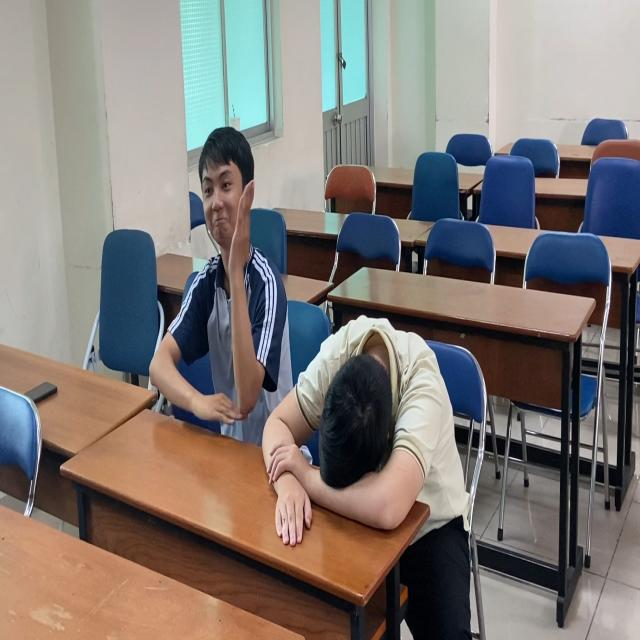raise_hand: (162, 116, 265, 460)
sleep: (257, 329, 471, 554)
